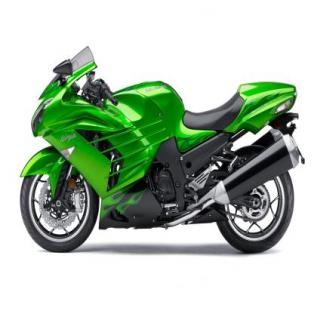Motocicleta: (17, 35, 306, 268)
